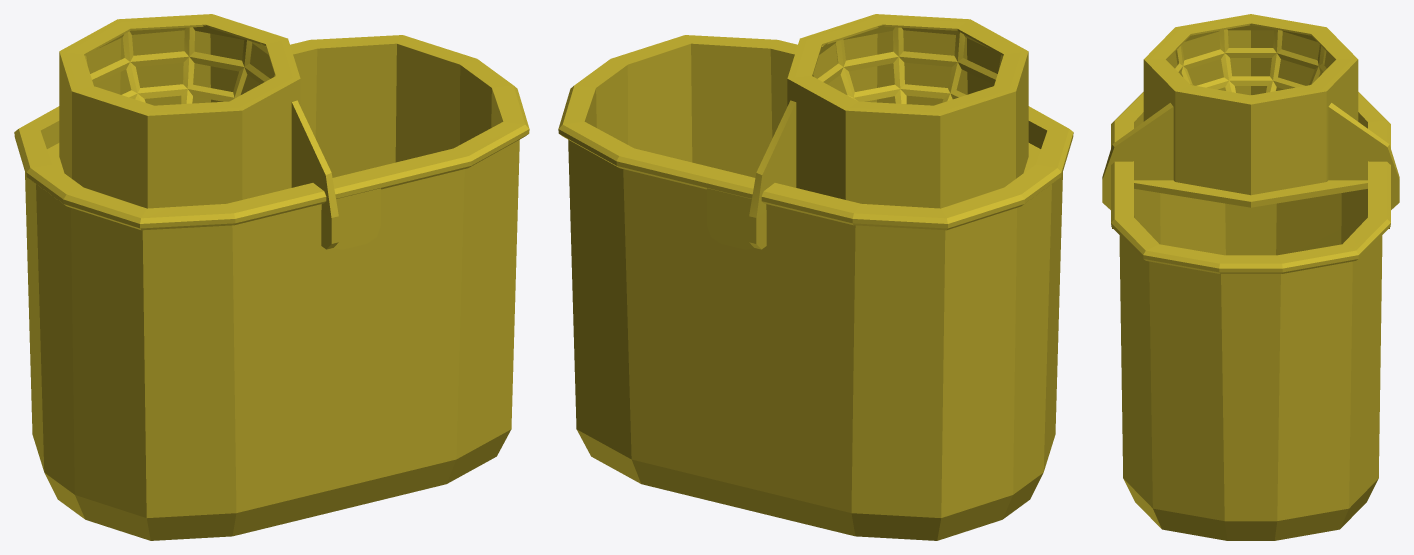
File: mop_station.obj
The picture shows the model from 3 angles, left to right: view 1: azimuth 30°, elevation 25°; view 2: azimuth 150°, elevation 25°; view 3: azimuth 270°, elevation 25°; orthographic projection. The views are drawn at different scales.
Visible parts, largest first — view 1: Bucket_Cube_5; view 2: Bucket_Cube_5; view 3: Bucket_Cube_5.
Boxes of the visible parts, <box> form: Bucket_Cube_5: <box>14,14,529,540</box>; Bucket_Cube_5: <box>558,14,1073,540</box>; Bucket_Cube_5: <box>1102,14,1399,540</box>.
Size of the model in its own units: 1.47 by 1.33 by 0.9708.
